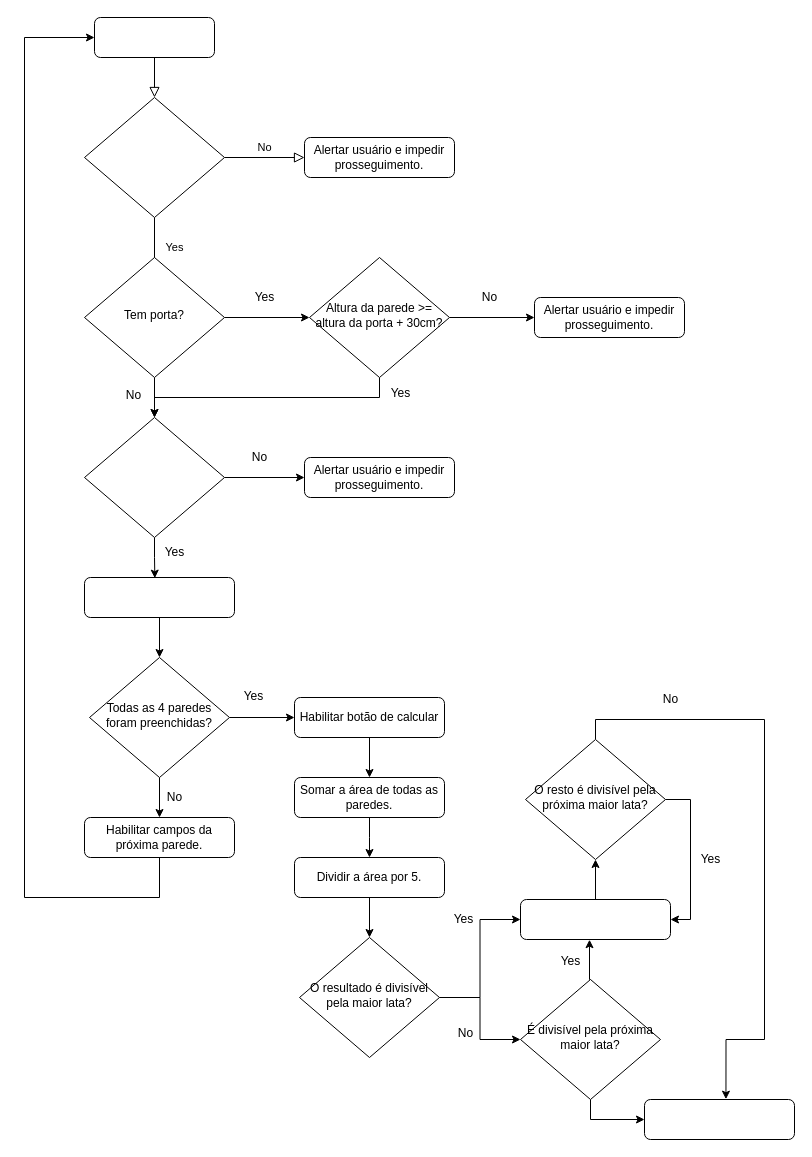
This 812x1157 diagram has some shape labels left out. The centre of each missing label's shape, as x and y in pixels:
Calcular área da parede e guardar o valor.: point (159, 597)
Campos preenchidos: point (154, 37)
Dividir, guardar o valor e o resto.: point (595, 919)
Mostrar quantidade de latas a comprar.: point (719, 1119)
Área da parede entre 1m ² e 15m ²?: point (154, 157)
Área das portas e janelas < 50% da área da parede?: point (154, 477)
